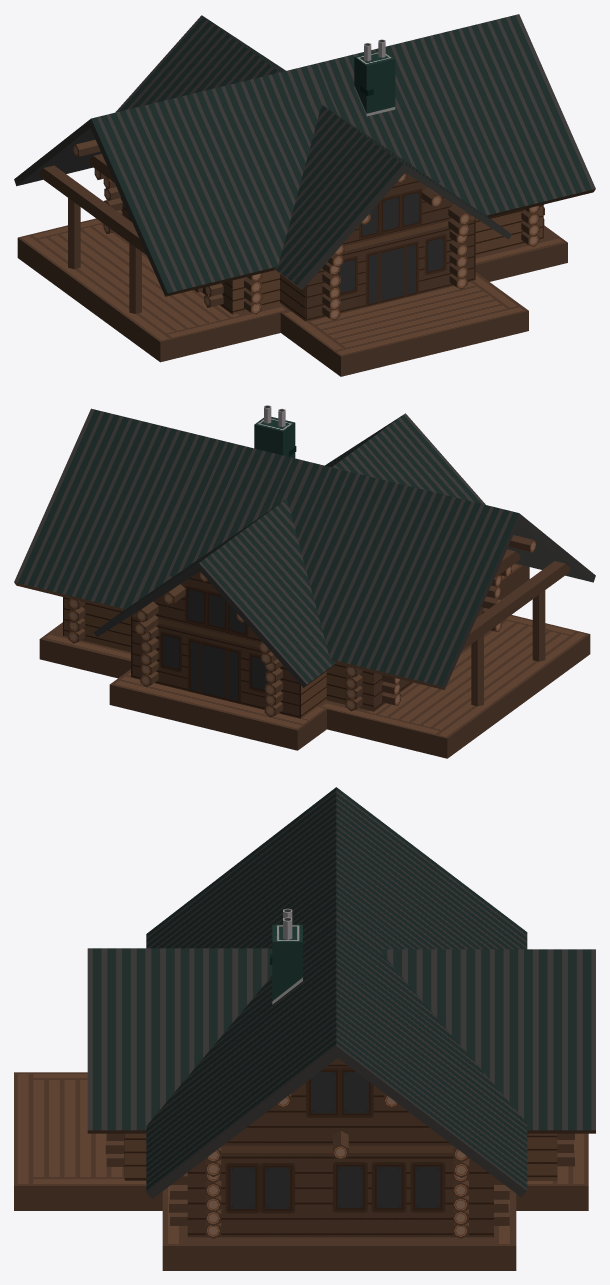
The model's file is Log cabin.glb.
3 views of the same model, one above another, from view 1: azimuth 30°, elevation 25°; view 2: azimuth 150°, elevation 25°; view 3: azimuth 270°, elevation 25° (orthographic). The views are drawn at different scales.
Visible parts, largest first — view 1: Cottage; view 2: Cottage; view 3: Cottage.
Boxes of the visible parts, x1=… form: Cottage: x1=14, y1=14, x2=595, y2=376; Cottage: x1=14, y1=405, x2=595, y2=758; Cottage: x1=14, y1=787, x2=595, y2=1270.
Bounding box in the file's own units: 1500 × 728 × 1423.
1 material, 1 textured.
